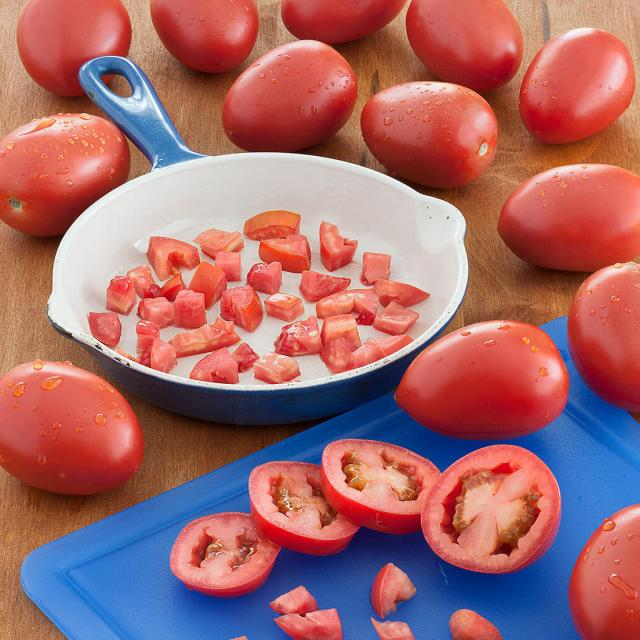Tomato: (395, 320, 568, 440), (0, 360, 142, 494), (421, 445, 561, 573), (498, 165, 640, 271), (224, 40, 357, 152), (361, 81, 498, 189), (321, 439, 440, 533), (568, 262, 640, 411), (406, 0, 522, 91), (249, 461, 358, 555), (170, 512, 280, 597), (559, 88, 570, 94), (372, 8, 380, 14)
